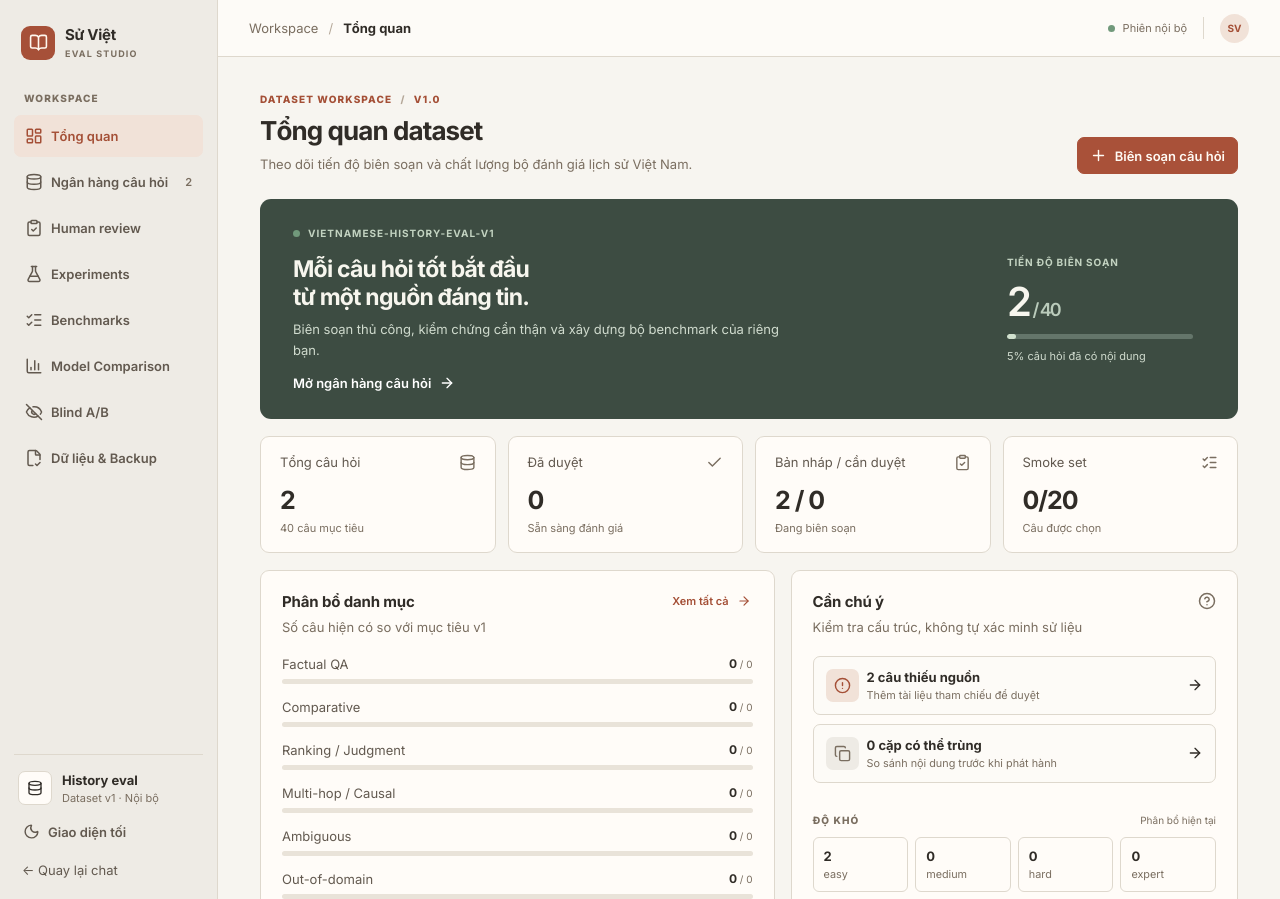
Test: a revision conflict preserves the draft, blocks navigation, and guards refresh
Expected: the heading "Tổng quan dataset" is shown, [260,115,482,146]
Click the button "Ngân hàng câu hỏi 2": [108, 182] box [14,161,203,203]
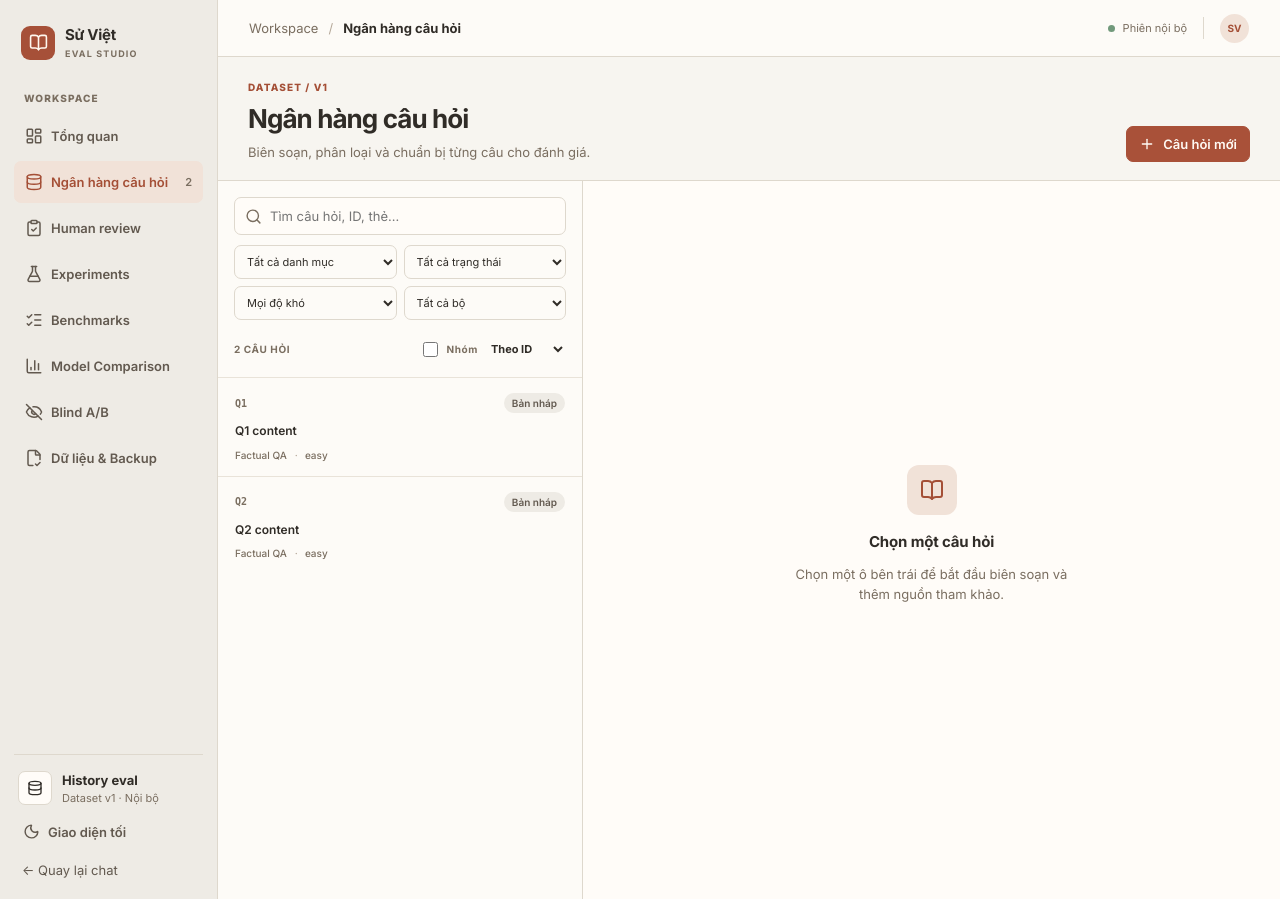
Expected: the heading "Ngân hàng câu hỏi" is shown, [248,103,468,134]
Click the button "Q1 Bản nháp Q1 content Factual QA easy": [534, 403] box [218,377,582,476]
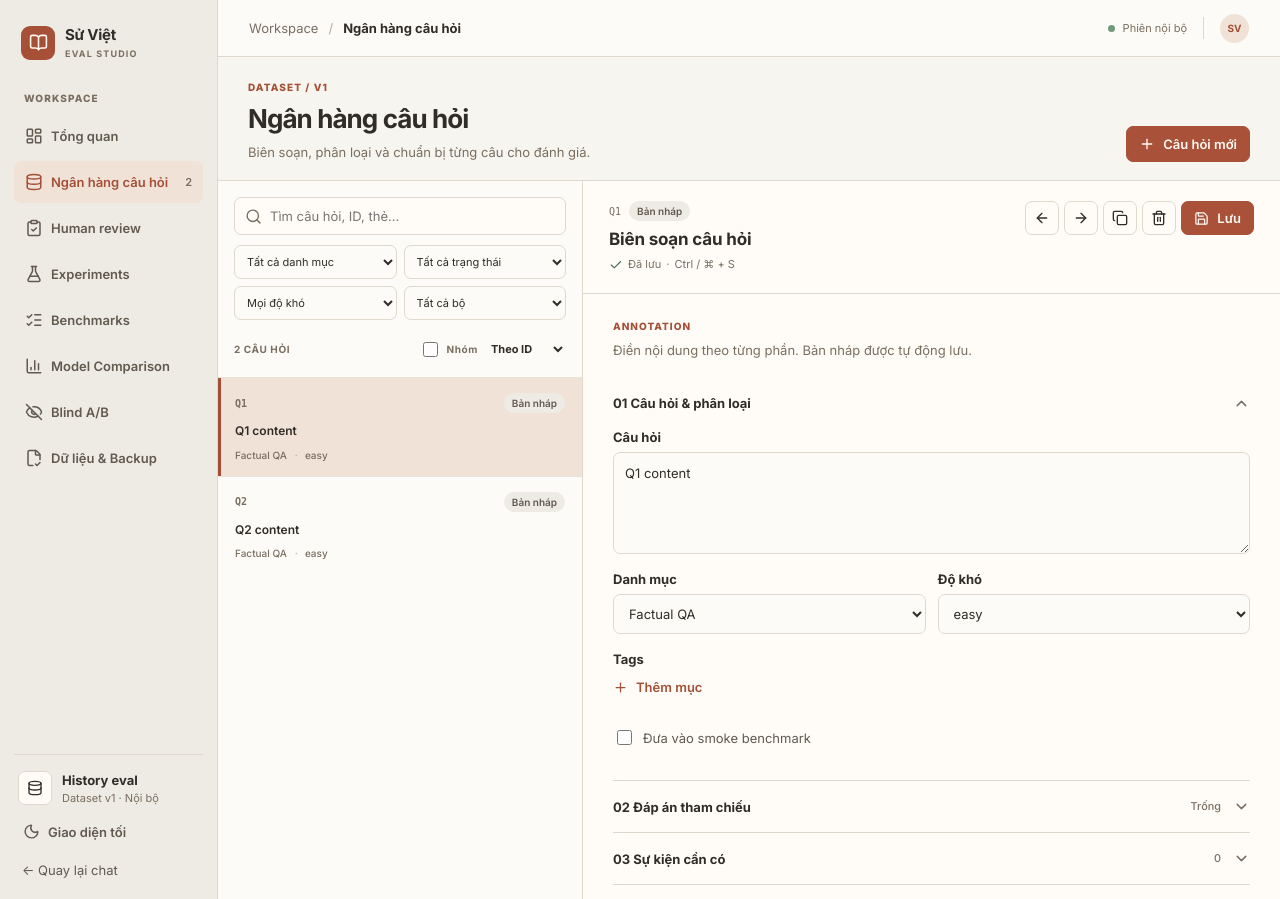
Replace the text in the text box labelled "Câu hỏi" with "Unsaved local work": [932, 503] box [613,452,1250,554]
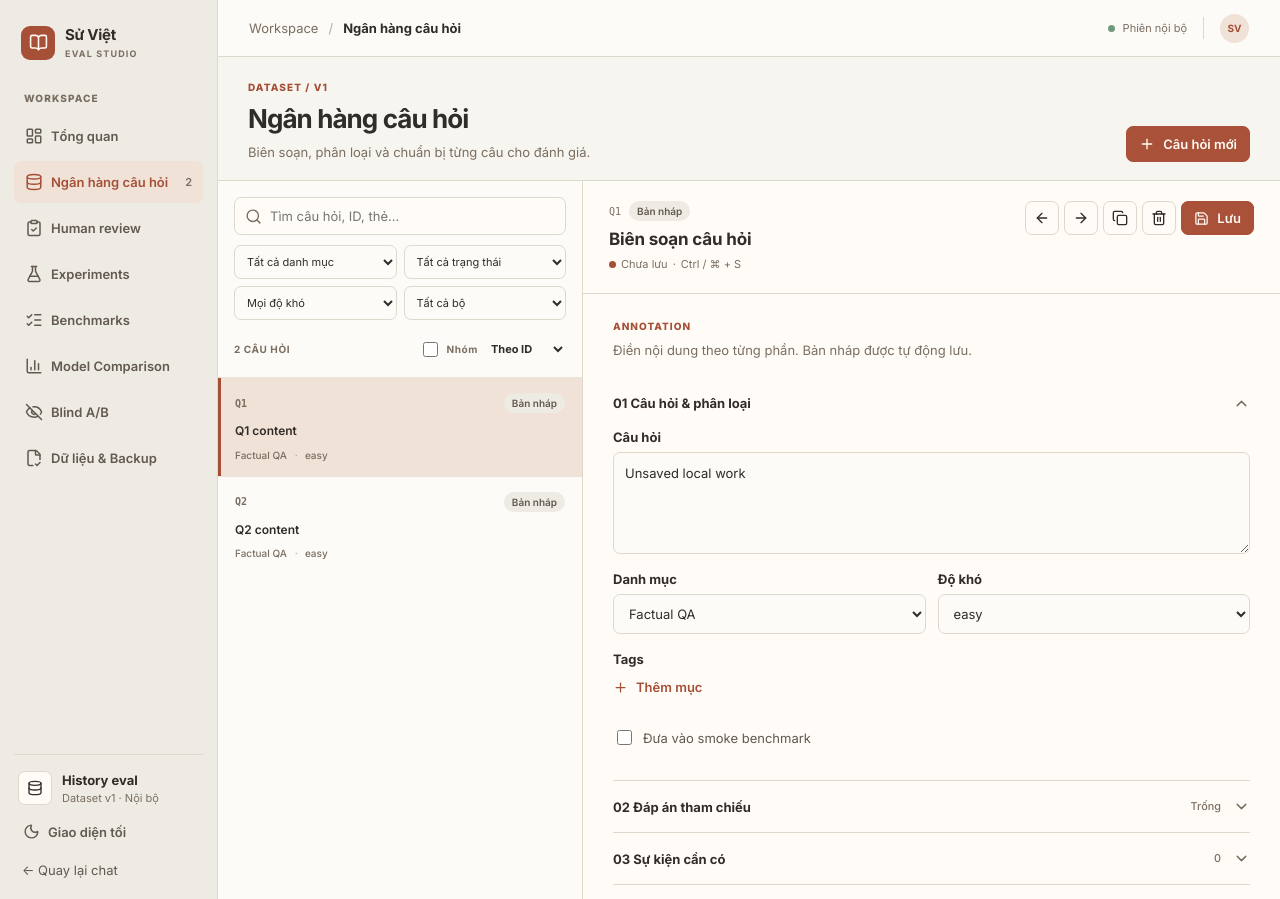
Click the button "Experiments": [108, 274] box [14,253,203,295]
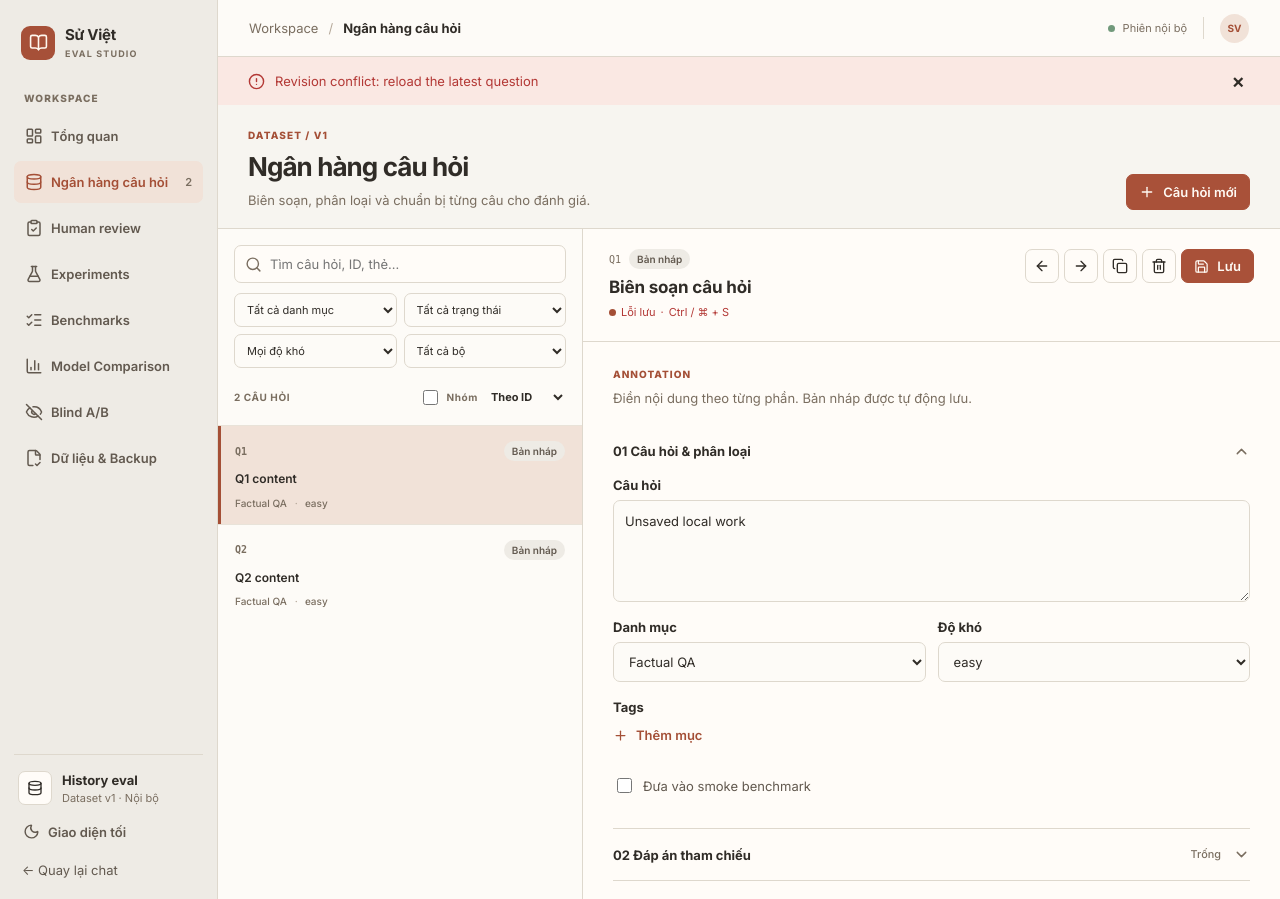
Expected: the message "Revision conflict: reload the latest question ×" is shown, [218,57,1279,105]
